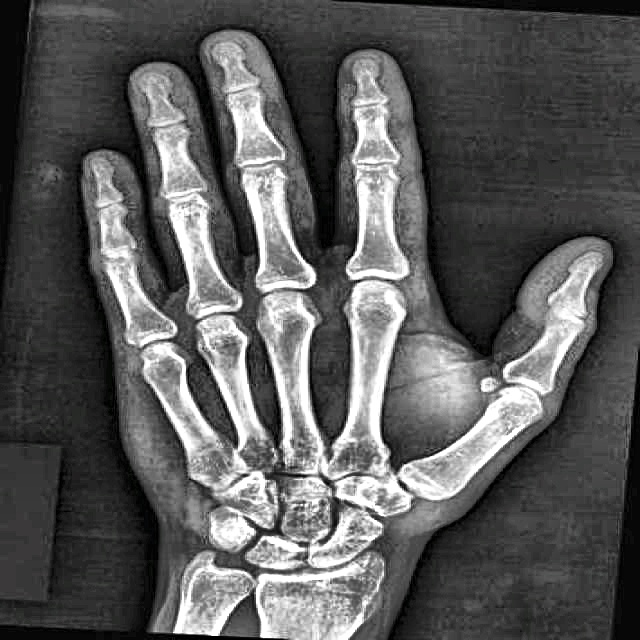Healthy: (84, 106, 563, 590)
